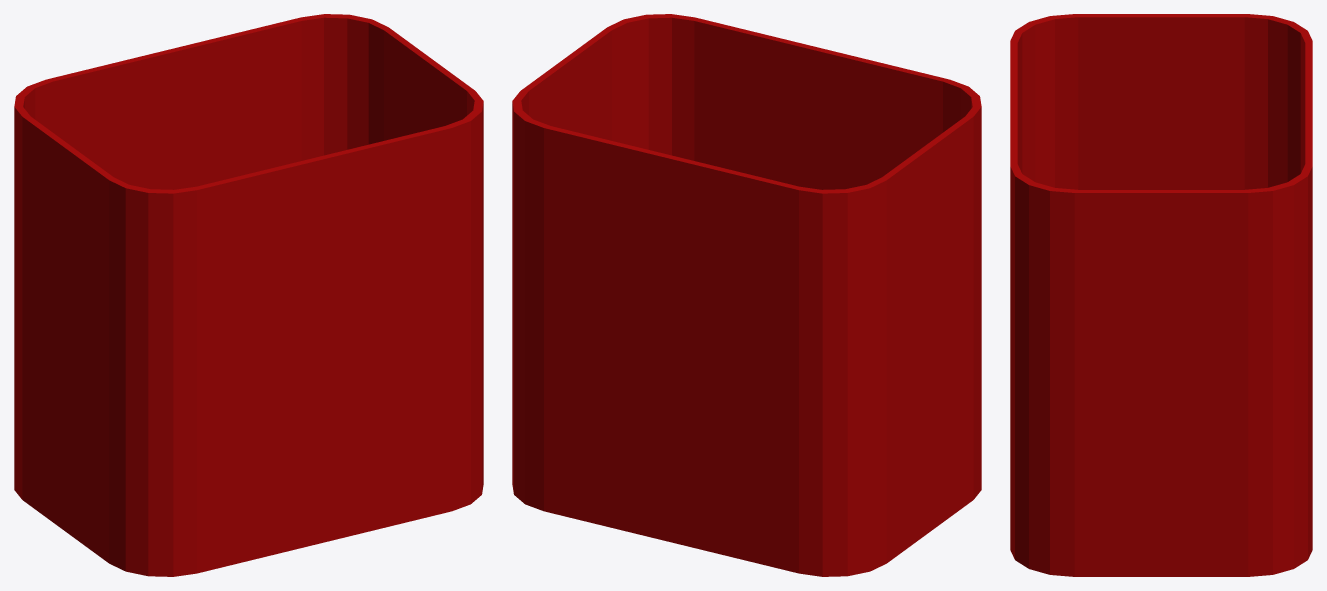
3 renders of one model, left to right at view 1: azimuth 30°, elevation 25°; view 2: azimuth 150°, elevation 25°; view 3: azimuth 270°, elevation 25°, orthographic.
Parts seen in each view (by area): view 1: mesh; view 2: mesh; view 3: mesh.
Part boxes in pixels (x1=…): mesh: x1=14, y1=14, x2=483, y2=576; mesh: x1=512, y1=14, x2=981, y2=576; mesh: x1=1010, y1=14, x2=1312, y2=576.
Bounding box in the file's own units: 0.3556 × 0.3556 × 0.254.
